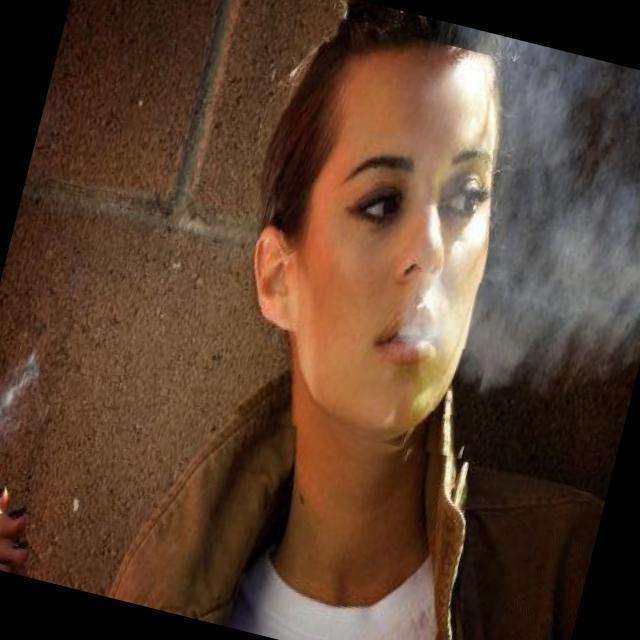cigarette: (0, 441, 38, 551)
